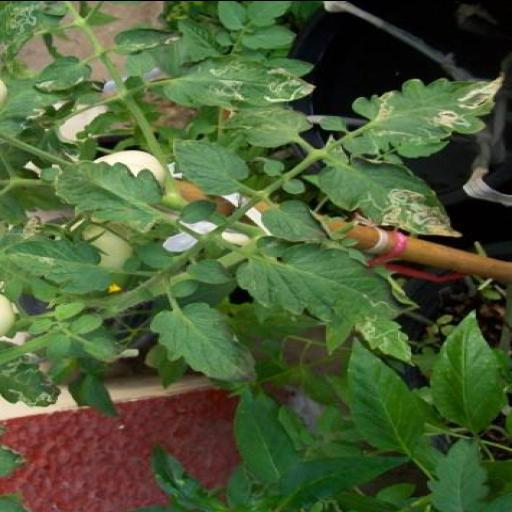Leaf Miner: (322, 68, 510, 160), (318, 151, 462, 237), (163, 55, 319, 107)
